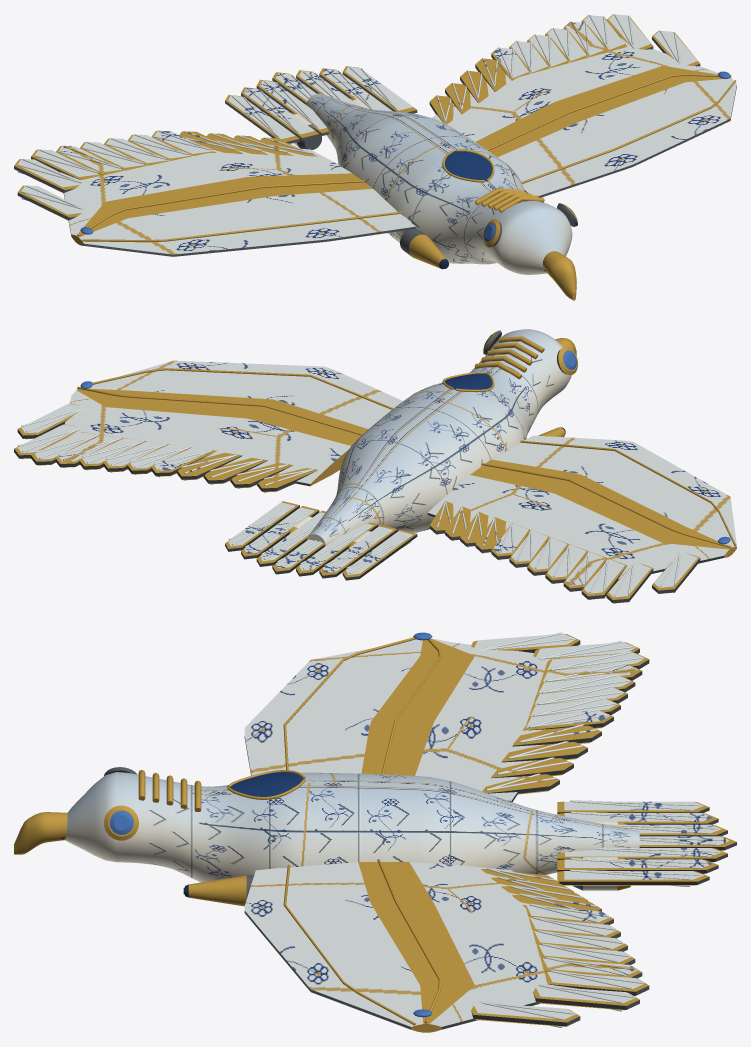
The picture shows the model from 3 angles, top to bottom: view 1: azimuth 30°, elevation 25°; view 2: azimuth 150°, elevation 25°; view 3: azimuth 270°, elevation 25°; orthographic projection. The views are drawn at different scales.
Parts seen in each view (by area): view 1: golden_eagle_hull; view 2: golden_eagle_hull; view 3: golden_eagle_hull.
Part boxes in pixels (x1,y1,x2,y2): golden_eagle_hull: [14, 14, 736, 300]; golden_eagle_hull: [14, 329, 736, 603]; golden_eagle_hull: [14, 632, 736, 1032].
Size of the model in its own units: 84 by 13.1 by 66.07.
1 material, 1 textured.
